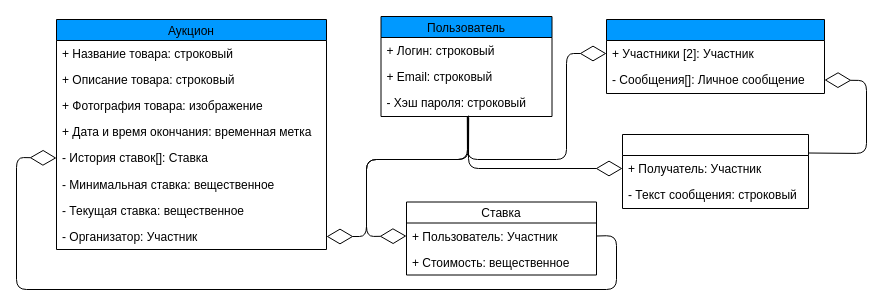
Image size: 883x306. Some labels were removed from this diagram. Here are the shapes that lost their labels. From the top down, the box of each, then its label:
(606, 18, 824, 94): Диалог
(622, 134, 808, 208): Сообщение
